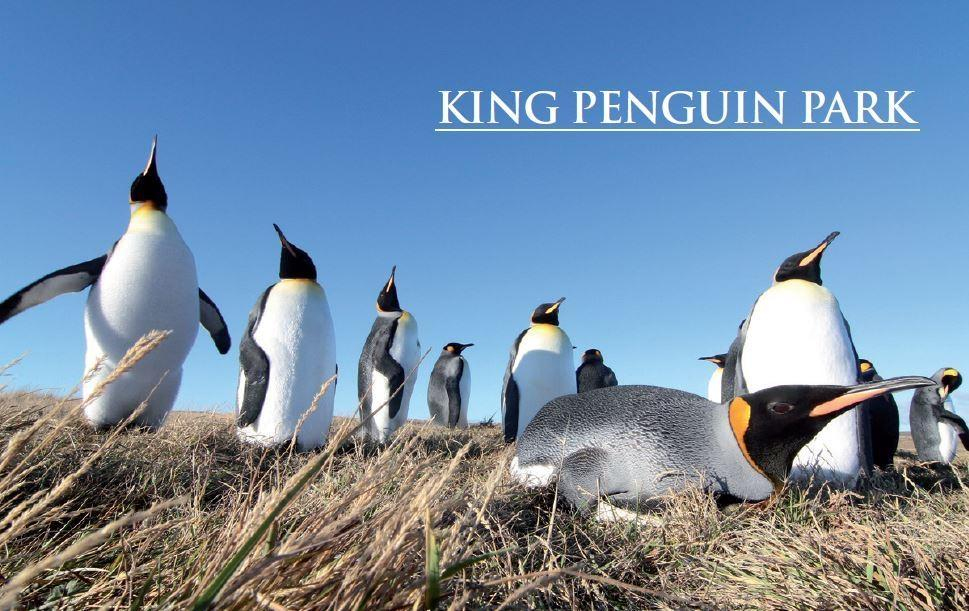Penguin: (0, 140, 230, 429), (511, 377, 933, 516), (721, 233, 861, 484), (237, 225, 337, 450), (358, 267, 422, 445), (502, 297, 577, 442), (909, 368, 968, 463), (857, 359, 899, 478), (428, 343, 473, 428), (576, 348, 617, 392), (698, 353, 727, 402)
